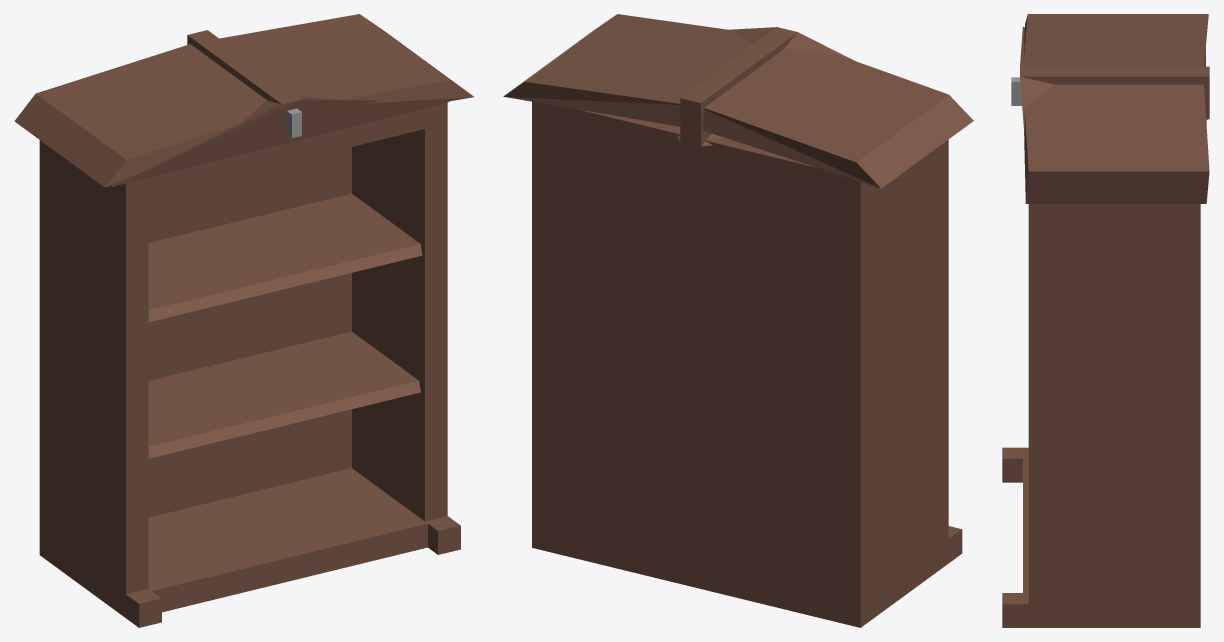
The model's file is Bookcase by Nikki Morin - 6p0f-u26DDh.glb.
The picture shows the model from 3 angles, left to right: view 1: azimuth 30°, elevation 25°; view 2: azimuth 150°, elevation 25°; view 3: azimuth 270°, elevation 25°; orthographic projection. The views are drawn at different scales.
Parts seen in each view (by area): view 1: Node; view 2: Node; view 3: Node.
Part boxes in pixels (x1=…): Node: x1=14, y1=14, x2=473, y2=627; Node: x1=503, y1=14, x2=973, y2=627; Node: x1=1002, y1=14, x2=1209, y2=627.
Bounding box in the file's own units: 1.46 × 1.81 × 0.71.
